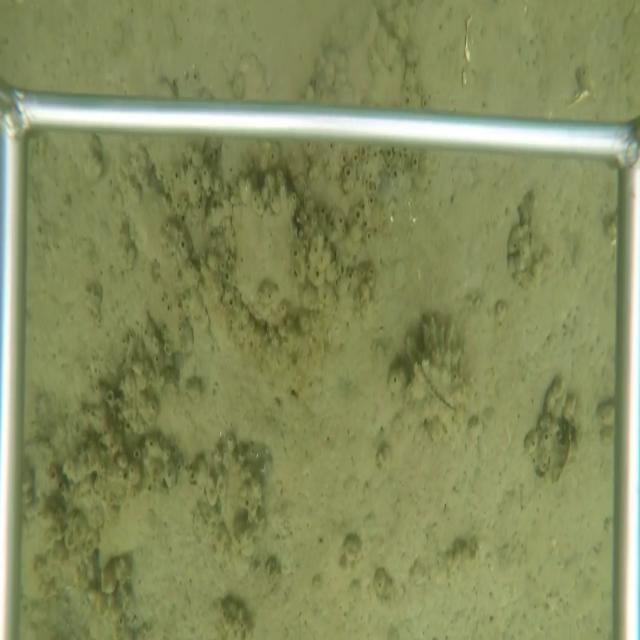Oyster-Closed: (226, 194, 307, 328), (413, 357, 458, 418)
